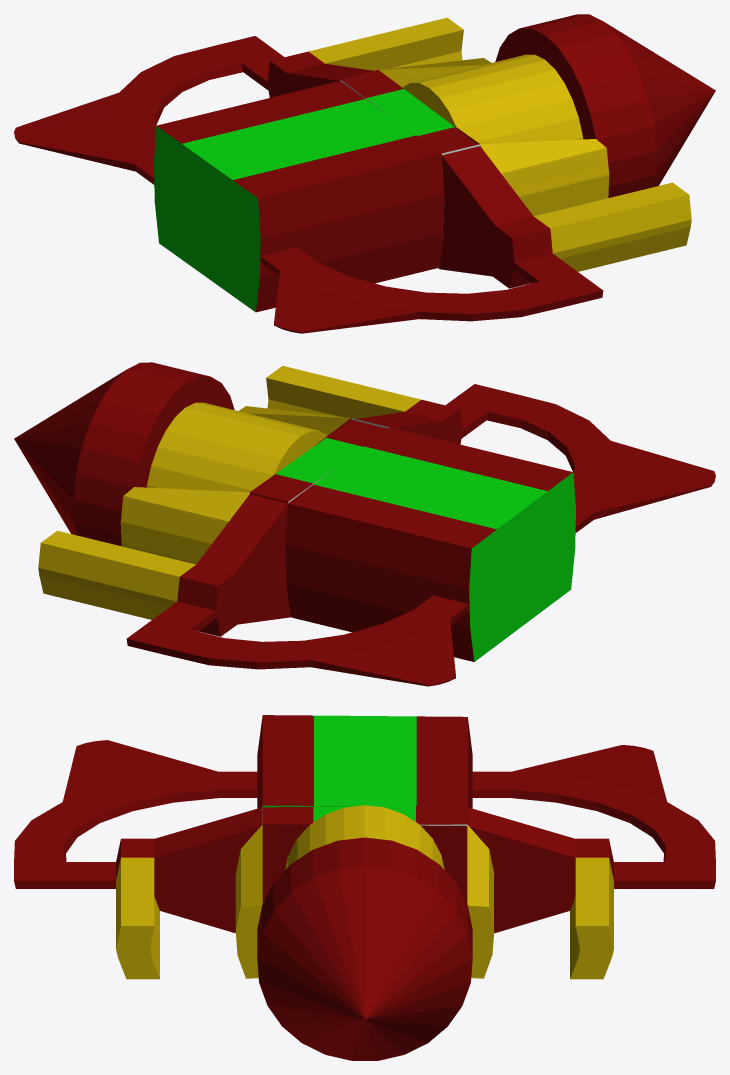
Rendered from Enemy1.fbx.
The picture shows the model from 3 angles, top to bottom: view 1: azimuth 30°, elevation 25°; view 2: azimuth 150°, elevation 25°; view 3: azimuth 270°, elevation 25°; orthographic projection.
Visible parts, largest first — view 1: Cone; view 2: Cone; view 3: Cone.
Boxes of the visible parts, bbox=[...] form: Cone: bbox=[14, 14, 715, 333]; Cone: bbox=[14, 362, 715, 686]; Cone: bbox=[14, 715, 715, 1060].
Bounding box in the file's own units: 615 × 199 × 651.
